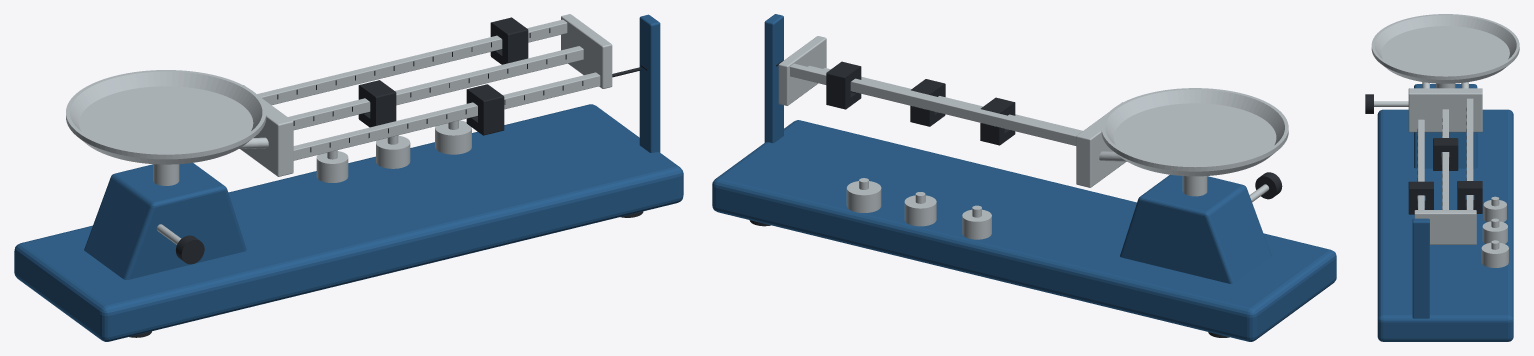
The model's file is full.fbx.
3 views of the same model, side by side, from view 1: azimuth 30°, elevation 25°; view 2: azimuth 150°, elevation 25°; view 3: azimuth 270°, elevation 25° (orthographic). The views are drawn at different scales.
Parts seen in each view (by area): view 1: Long low cast base, Shallow open 152mm pan, Raised pan pedestal, Independent graduated beam 0, Independent graduated beam 2, Independent graduated beam 1, Fixed reference upright, Beam end tie, Common beam root, Sliding rider 0, Sliding rider 1, Sliding rider 2 (+5 smaller); view 2: Long low cast base, Shallow open 152mm pan, Raised pan pedestal, Independent graduated beam 2, Fixed reference upright, Common beam root, Beam end tie, Sliding rider 2, Sliding rider 1, Stored auxiliary weight 2, Sliding rider 0, Stored auxiliary weight 1 (+4 smaller); view 3: Long low cast base, Shallow open 152mm pan, Common beam root, Fixed reference upright, Beam end tie, Raised pan pedestal, Independent graduated beam 2, Sliding rider 1, Sliding rider 0, Sliding rider 2, Stored auxiliary weight 2, Independent graduated beam 1 (+5 smaller).
Boxes of the visible parts, x1,y1,x2,y2 form: Long low cast base: (14, 104, 683, 341); Shallow open 152mm pan: (66, 70, 266, 164); Raised pan pedestal: (84, 163, 246, 279); Independent graduated beam 0: (293, 72, 600, 160); Independent graduated beam 2: (257, 19, 567, 105); Independent graduated beam 1: (288, 46, 583, 130); Fixed reference upright: (639, 14, 660, 152); Beam end tie: (561, 14, 612, 88); Common beam root: (240, 85, 293, 176); Sliding rider 0: (466, 84, 504, 135); Sliding rider 1: (358, 80, 396, 127); Sliding rider 2: (490, 17, 528, 64); Long low cast base: (712, 120, 1336, 341); Shallow open 152mm pan: (1101, 88, 1288, 176); Raised pan pedestal: (1120, 174, 1271, 283); Independent graduated beam 2: (790, 63, 1079, 145); Fixed reference upright: (764, 14, 783, 143); Common beam root: (1076, 102, 1125, 187); Beam end tie: (778, 36, 826, 105); Sliding rider 2: (826, 61, 861, 109); Sliding rider 1: (980, 97, 1015, 145); Stored auxiliary weight 2: (846, 181, 881, 212); Sliding rider 0: (910, 79, 945, 126); Stored auxiliary weight 1: (904, 195, 936, 226); Long low cast base: (1377, 109, 1513, 341); Shallow open 152mm pan: (1371, 14, 1519, 83); Common beam root: (1408, 88, 1482, 132); Fixed reference upright: (1412, 218, 1429, 318); Beam end tie: (1414, 210, 1476, 244); Raised pan pedestal: (1414, 84, 1477, 168); Independent graduated beam 2: (1466, 98, 1473, 209); Sliding rider 1: (1433, 138, 1458, 170); Sliding rider 0: (1408, 181, 1433, 214); Sliding rider 2: (1457, 181, 1482, 213); Stored auxiliary weight 2: (1481, 242, 1508, 267); Independent graduated beam 1: (1442, 109, 1448, 209).
Bounding box in the file's own units: 51 × 15 × 15.85.
